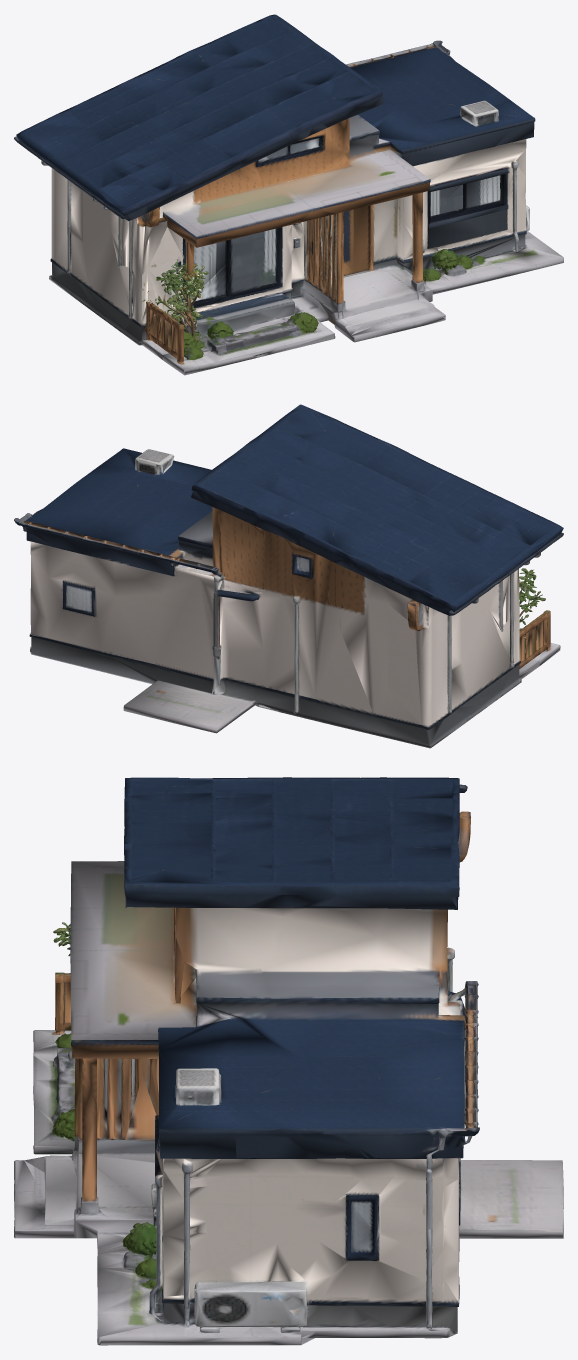
The model's file is BLD_010_residence_d.glb.
The picture shows the model from 3 angles, top to bottom: view 1: azimuth 30°, elevation 25°; view 2: azimuth 150°, elevation 25°; view 3: azimuth 270°, elevation 25°; orthographic projection. The views are drawn at different scales.
Visible parts, largest first — view 1: Mesh_0.001; view 2: Mesh_0.001; view 3: Mesh_0.001.
Part boxes in pixels (x1,y1,x2,y2): Mesh_0.001: (14, 14, 563, 375); Mesh_0.001: (14, 404, 563, 748); Mesh_0.001: (14, 777, 563, 1345).
Bounding box in the file's own units: 9.24 × 4.3 × 6.45.
1 material, 1 textured.
